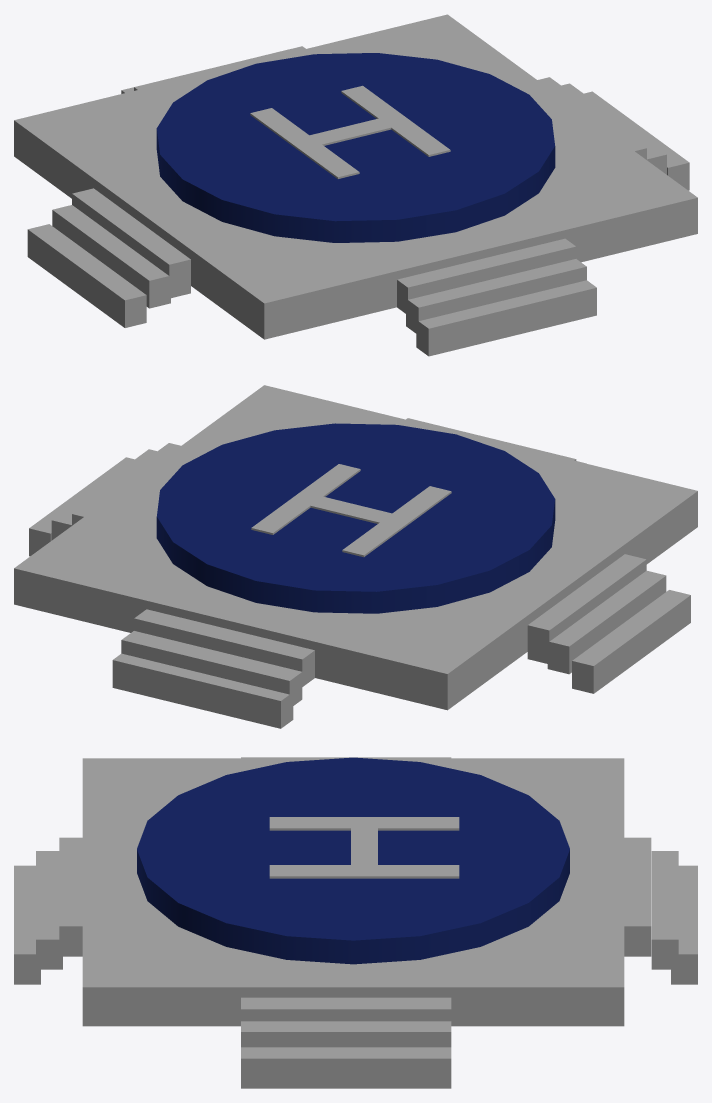
File: Helipuerto.fbx
3 renders of one model, top to bottom at view 1: azimuth 30°, elevation 25°; view 2: azimuth 150°, elevation 25°; view 3: azimuth 270°, elevation 25°, orthographic. The views are drawn at different scales.
Parts seen in each view (by area): view 1: pCube1, pCylinder1, pCube13, pCube16, pCube12, pCube11, pCube15, pCube14, pCube4, pCube2, pCube8, pCube5 (+3 smaller); view 2: pCube1, pCylinder1, pCube7, pCube16, pCube10, pCube9, pCube15, pCube14, pCube2, pCube4, pCube8, pCube3 (+2 smaller); view 3: pCube1, pCylinder1, pCube8, pCube6, pCube5, pCube9, pCube10, pCube12, pCube11, pCube13, pCube2, pCube7 (+2 smaller).
Boxes of the visible parts, box(x1,y1,x2,y2) form: pCube1: box(14, 14, 697, 339); pCylinder1: box(156, 53, 555, 242); pCube13: box(416, 280, 596, 356); pCube16: box(27, 224, 146, 327); pCube12: box(406, 259, 586, 333); pCube11: box(397, 238, 576, 314); pCube15: box(52, 205, 170, 308); pCube14: box(72, 188, 190, 298); pCube4: box(250, 108, 359, 178); pCube2: box(341, 85, 450, 156); pCube8: box(584, 91, 689, 190); pCube5: box(537, 77, 646, 159); pCube1: box(14, 385, 697, 710); pCylinder1: box(156, 423, 555, 613); pCube7: box(112, 653, 293, 728); pCube16: box(572, 590, 690, 693); pCube10: box(121, 631, 302, 707); pCube9: box(134, 609, 314, 686); pCube15: box(547, 570, 666, 674); pCube14: box(527, 554, 646, 663); pCube2: box(251, 464, 360, 534); pCube4: box(342, 486, 451, 557); pCube8: box(29, 457, 134, 556); pCube3: box(308, 493, 411, 527); pCube1: box(82, 758, 624, 1026); pCylinder1: box(137, 757, 569, 964); pCube8: box(241, 1047, 451, 1088); pCube6: box(241, 1021, 451, 1047); pCube5: box(241, 997, 451, 1021); pCube9: box(624, 837, 651, 956); pCube10: box(651, 851, 678, 969); pCube12: box(36, 851, 62, 969); pCube11: box(59, 837, 82, 956); pCube13: box(14, 865, 40, 984); pCube2: box(269, 865, 459, 878); pCube7: box(671, 865, 697, 984).
Bounding box in the file's own units: 26.05 × 3.79 × 25.26.
